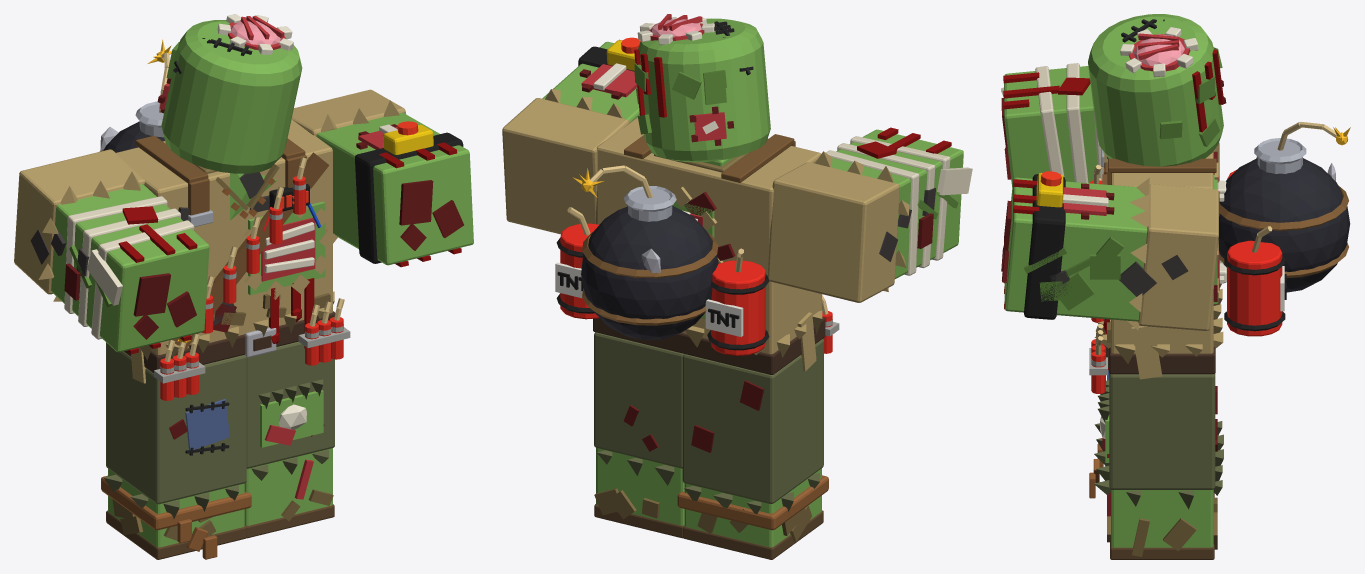
File: zombi_explosivo.obj
3 renders of one model, left to right at view 1: azimuth 30°, elevation 25°; view 2: azimuth 150°, elevation 25°; view 3: azimuth 270°, elevation 25°, orthographic.
Parts seen in each view (by area): view 1: Torso, RightArm, RightLeg, LeftArm, Head, LeftLeg; view 2: Torso, RightArm, RightLeg, Head, LeftLeg, LeftArm; view 3: Torso, LeftArm, LeftLeg, Head, RightArm, RightLeg.
Boxes of the visible parts, x1=… form: Torso: x1=99, y1=39, x2=350, y2=400; RightArm: x1=14, y1=149, x2=209, y2=354; RightLeg: x1=101, y1=342, x2=251, y2=559; LeftArm: x1=291, y1=89, x2=473, y2=267; Head: x1=157, y1=14, x2=302, y2=173; LeftLeg: x1=244, y1=341, x2=334, y2=538; Torso: x1=555, y1=115, x2=839, y2=374; RightArm: x1=767, y1=127, x2=972, y2=302; RightLeg: x1=677, y1=339, x2=828, y2=559; Head: x1=634, y1=14, x2=770, y2=162; LeftLeg: x1=594, y1=332, x2=684, y2=538; LeftArm: x1=502, y1=37, x2=640, y2=234; Torso: x1=1089, y1=122, x2=1350, y2=393; LeftArm: x1=1001, y1=171, x2=1218, y2=330; LeftLeg: x1=1094, y1=374, x2=1223, y2=559; Head: x1=1088, y1=14, x2=1226, y2=166; RightArm: x1=1001, y1=63, x2=1219, y2=186; RightLeg: x1=1089, y1=318, x2=1223, y2=498.
Bounding box in the file's own units: 4.3 × 5.32 × 3.41.
Materials: 1 (1 with a texture image).
